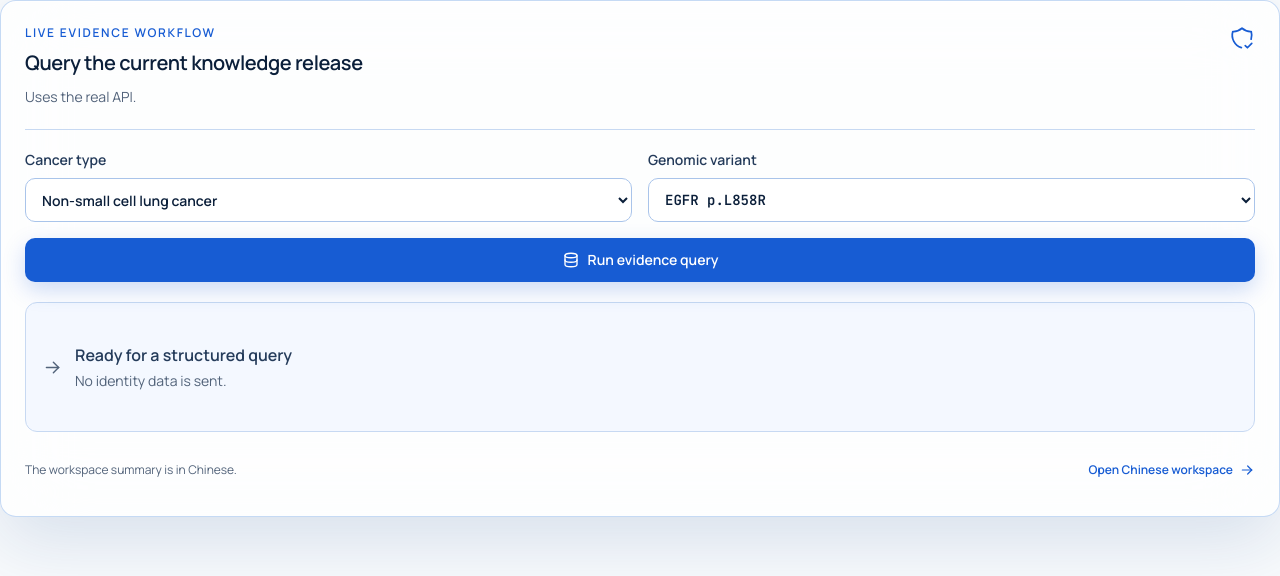
Test: LandingEvidenceDemo › renders the NO_CURATED_EVIDENCE business state without a fabricated result
Click the button "Run evidence query".
click(640, 260)  # box [25,238,1255,282]
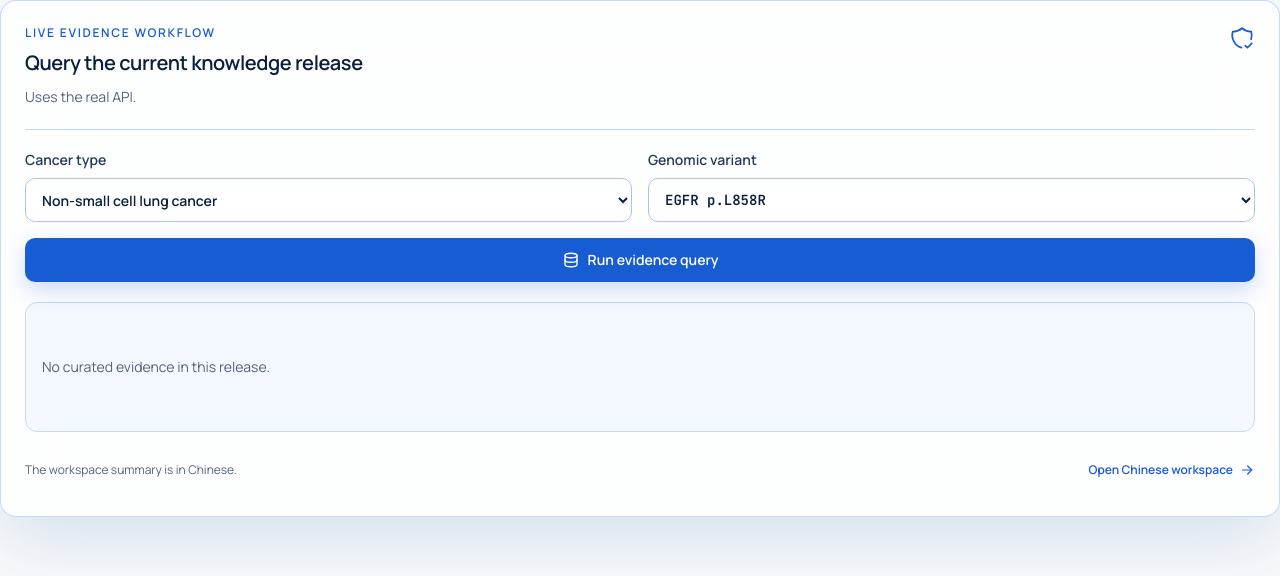
Now the text "No curated evidence in this release." is shown, box [42,357,270,376]
